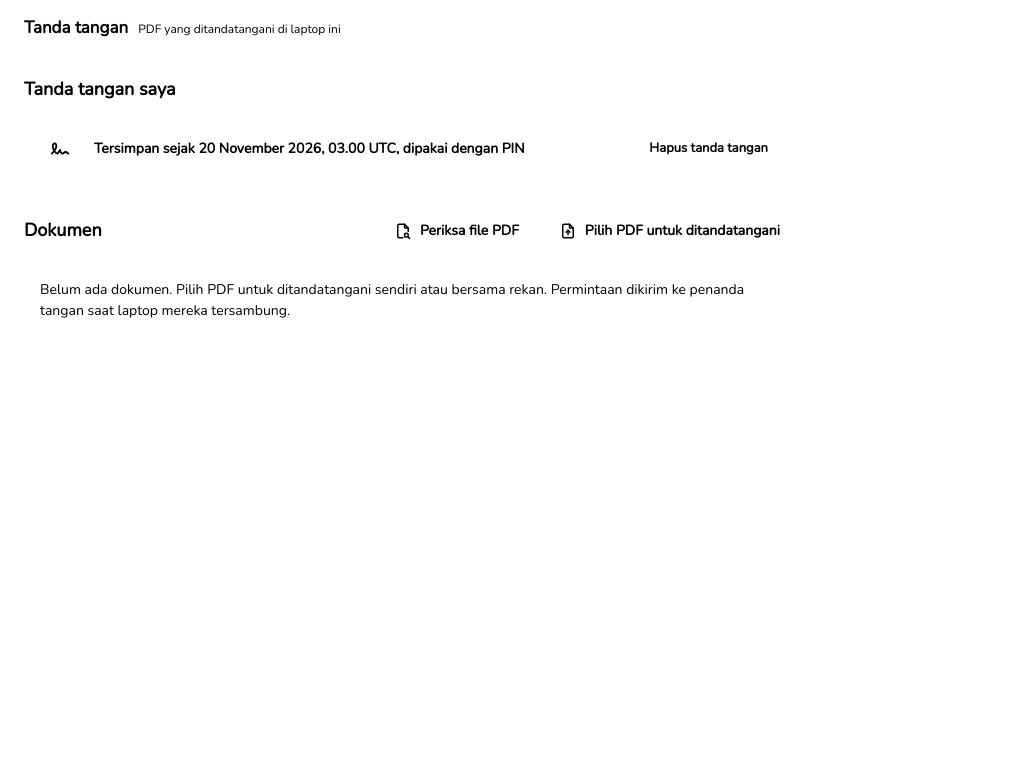
Test: SignScreen: tanda tangan saya › Lupa PIN gagal: error tampil di dialog konfirmasi
Click the button "Hapus tanda tangan" at coordinates (709, 148), box [637,132,780,166]
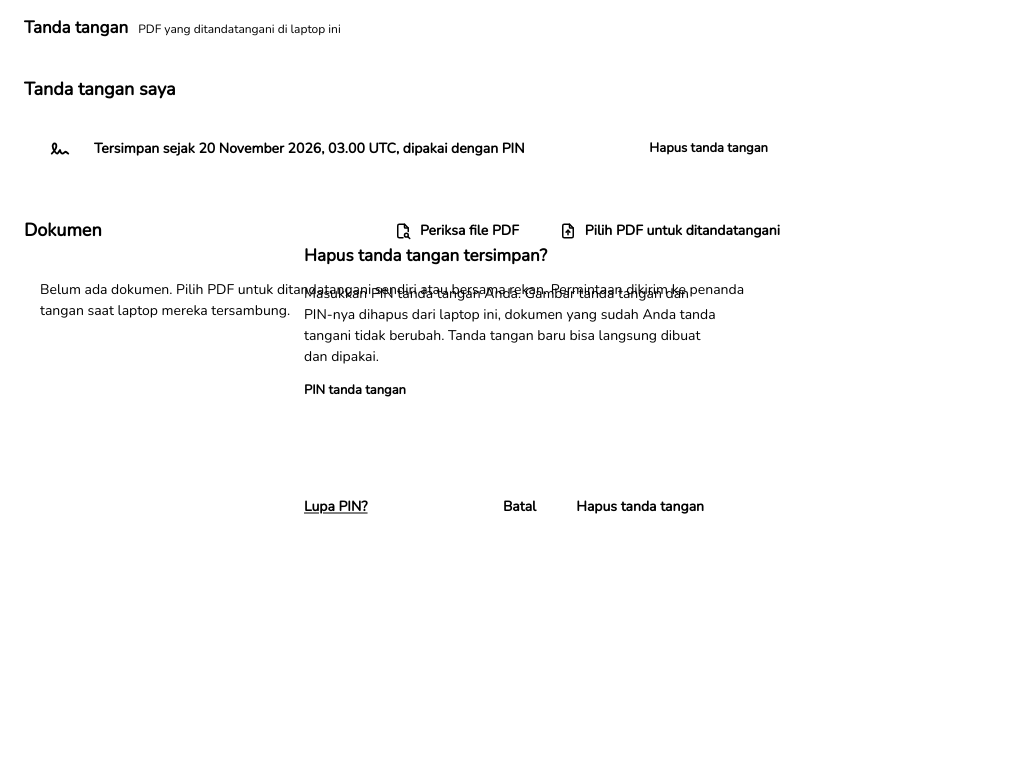
Click the button "Lupa PIN?" at coordinates (336, 506), box [304,486,368,526]
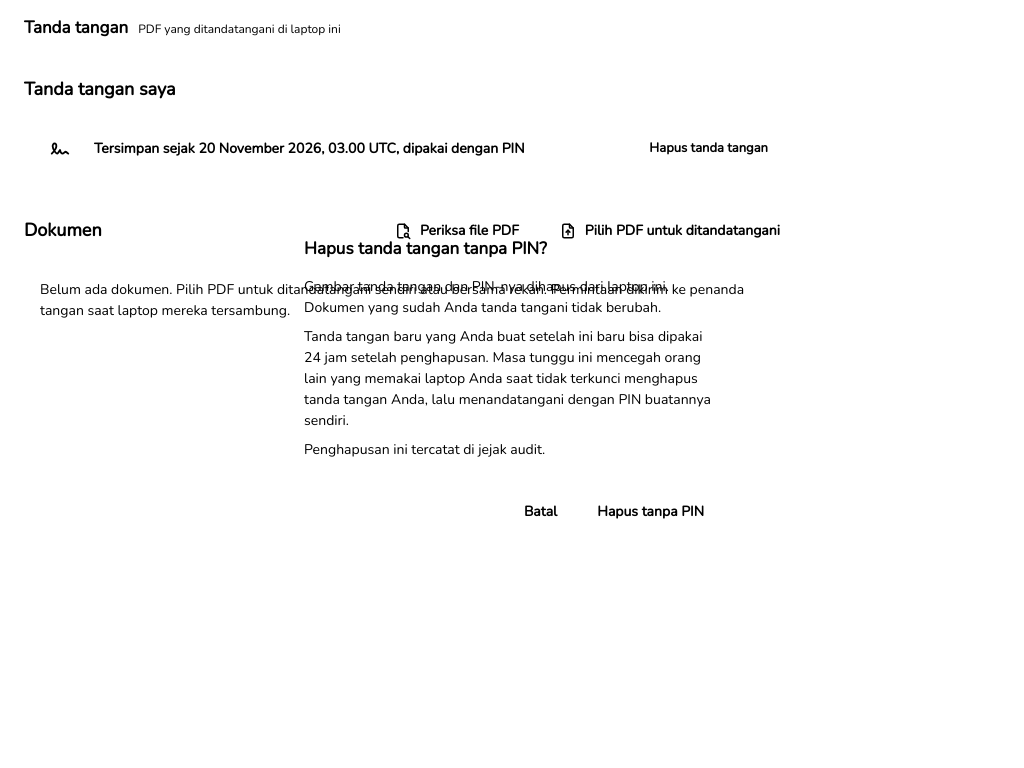
Click the button "Hapus tanpa PIN" at coordinates (651, 512), box [581,492,720,532]
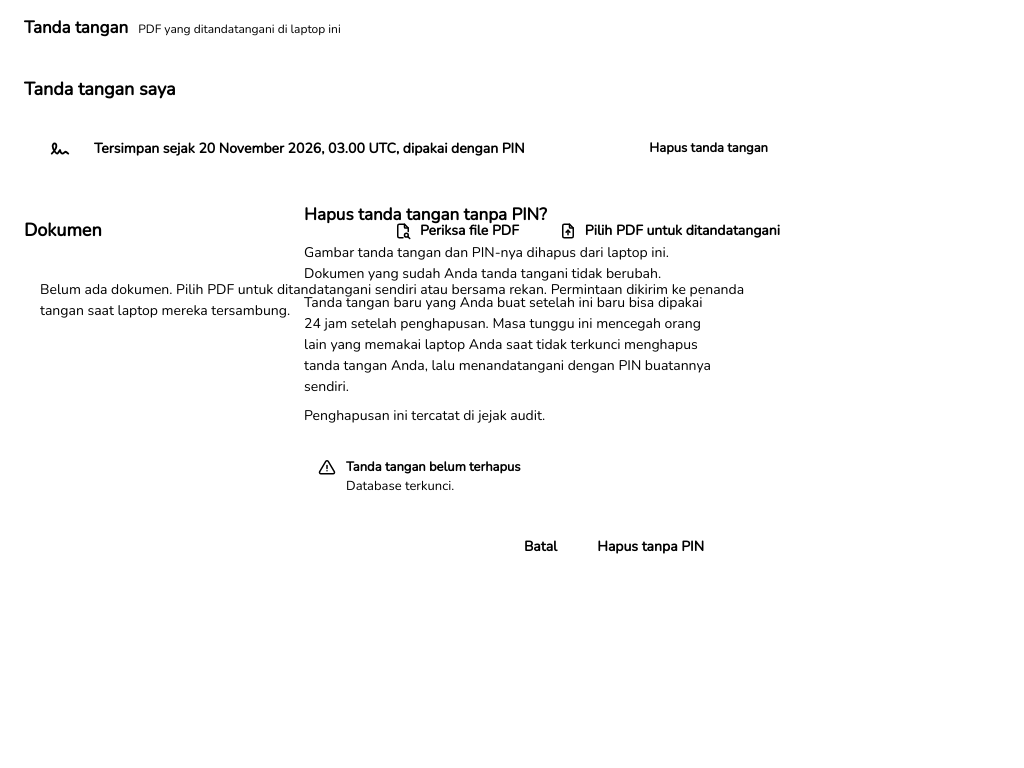
expect the text "Database terkunci." is shown: met, box [346,477,454,495]
